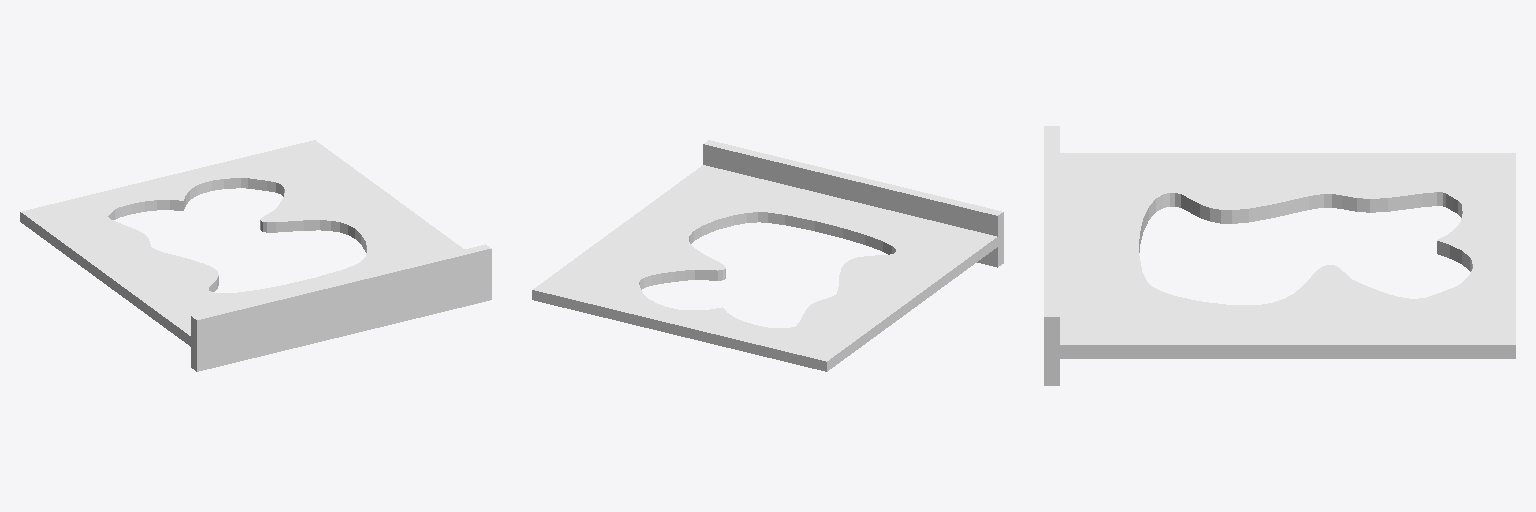
robot.urdf — forest_wall_3:
<?xml version="1.0" encoding="utf-8"?>
<!-- This URDF was automatically created by SolidWorks to URDF Exporter! Originally created by Stephen Brawner (brawner@gmail.com) 
     Commit Version: 1.6.0-4-g7f85cfe  Build Version: 1.6.7995.38578
     For more information, please see http://wiki.ros.org/sw_urdf_exporter -->
<robot
  name="forest_wall_3">
  <link
    name="base_link">
    <inertial>
      <origin
        xyz="0.0101639038737229 -0.345750301759927 2.28574394428031E-06"
        rpy="0 0 0" />
      <mass
        value="740.131293702074" />
      <inertia
        ixx="822.275201127958"
        ixy="-11.6520037863876"
        ixz="-0.00103137440453285"
        iyy="718.053270279373"
        iyz="-0.000275443138235663"
        izz="1533.1305017299" />
    </inertial>
    <visual>
      <origin
        xyz="0 0 0"
        rpy="0 0 0" />
      <geometry>
        <mesh
          filename="package://emnv_scene/urdf_models/forest_wall_3/meshes/forest_wall_3.STL" />
      </geometry>
      <material
        name="">
        <color
          rgba="1 1 1 1" />
      </material>
    </visual>
    <collision>
      <origin
        xyz="0 0 0"
        rpy="0 0 0" />
      <geometry>
        <mesh
          filename="package://emnv_scene/urdf_models/forest_wall_3/meshes/forest_wall_3.STL" />
      </geometry>
    </collision>
  </link>
</robot>

--- What the picture shows (computed from the rendered views, not written in the file) ---
The picture shows the robot from 3 angles, left to right: view 1: azimuth 30°, elevation 25°; view 2: azimuth 150°, elevation 25°; view 3: azimuth 270°, elevation 25°; orthographic projection.
Model forest_wall_3 with 1 links and 0 joints (none), rooted at base_link, posed all joints at 0.
Links seen in each view (by area): view 1: base_link; view 2: base_link; view 3: base_link.
Link boxes in pixels (left/top/right/bottom): base_link: left=20, top=140, right=491, bottom=371; base_link: left=532, top=140, right=1003, bottom=371; base_link: left=1044, top=126, right=1515, bottom=385.
Bounding box of the posed robot: 2.98 × 3.1 × 0.5 m (x, y, z).
Meshes: 1 distinct files referenced, 1 mesh visuals loaded (1 binary STL).
